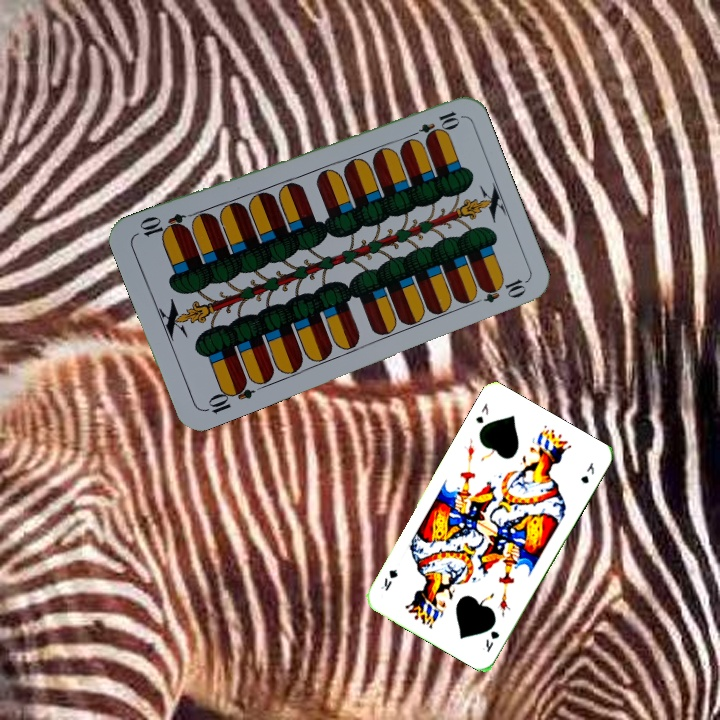E10: (200, 377, 257, 417), (404, 107, 462, 142)
GK: (481, 626, 502, 655), (472, 399, 491, 426)
